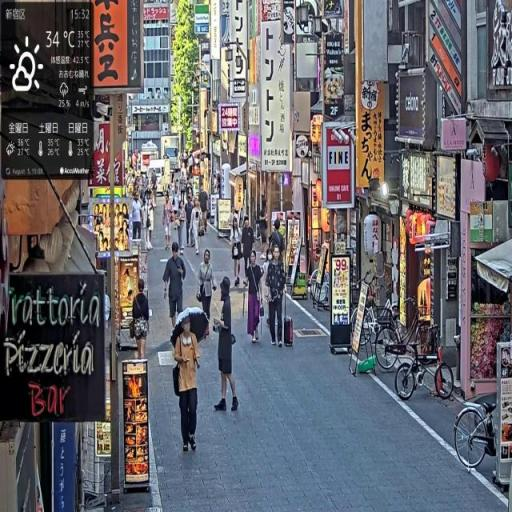person: (173, 316, 204, 453), (213, 276, 240, 415), (163, 241, 187, 340), (266, 244, 287, 349), (197, 251, 218, 340), (246, 249, 265, 347), (133, 280, 152, 364), (241, 216, 257, 288), (230, 211, 245, 287), (163, 191, 176, 257)
